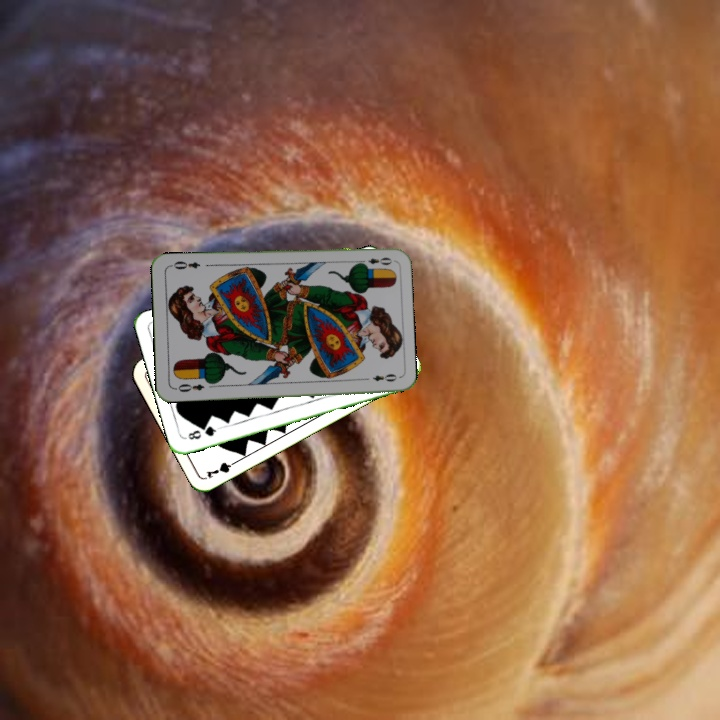EO: (355, 253, 395, 269), (171, 380, 207, 395)
G7: (202, 456, 241, 481)
G8: (184, 422, 222, 442)
